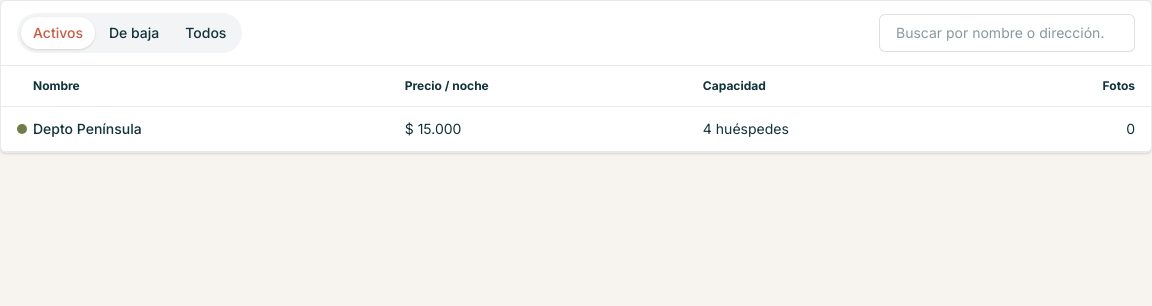
Test: AlojamientosTable — fila expandible › clickear una fila la expande y muestra dirección y descripción
The image size is (1152, 306).
Click the text "Depto Península": x=87, y=128 [33,106,405,152]
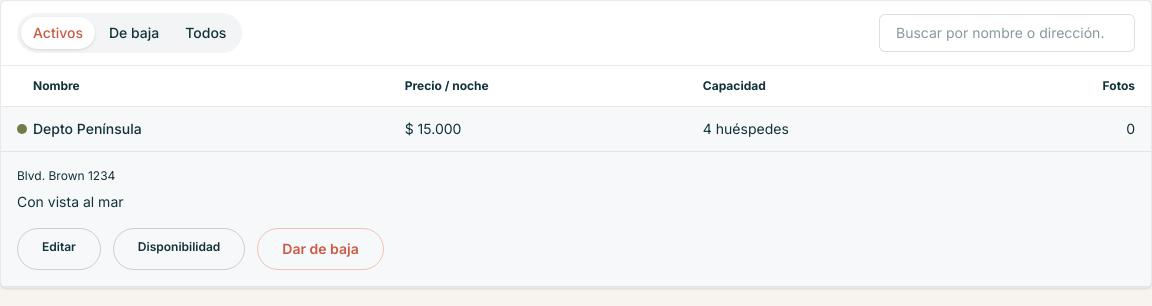
Expected: the text "Blvd. Brown 1234" is shown, [17,168,115,183]
Expected: the text "Con vista al mar" is shown, [17,193,124,210]
